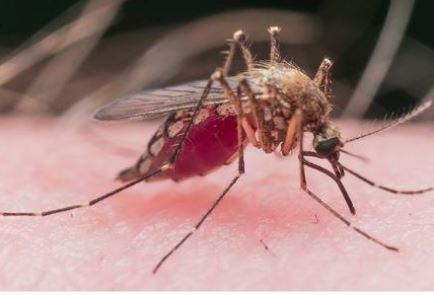dengue_mosquito: (3, 26, 406, 216)
